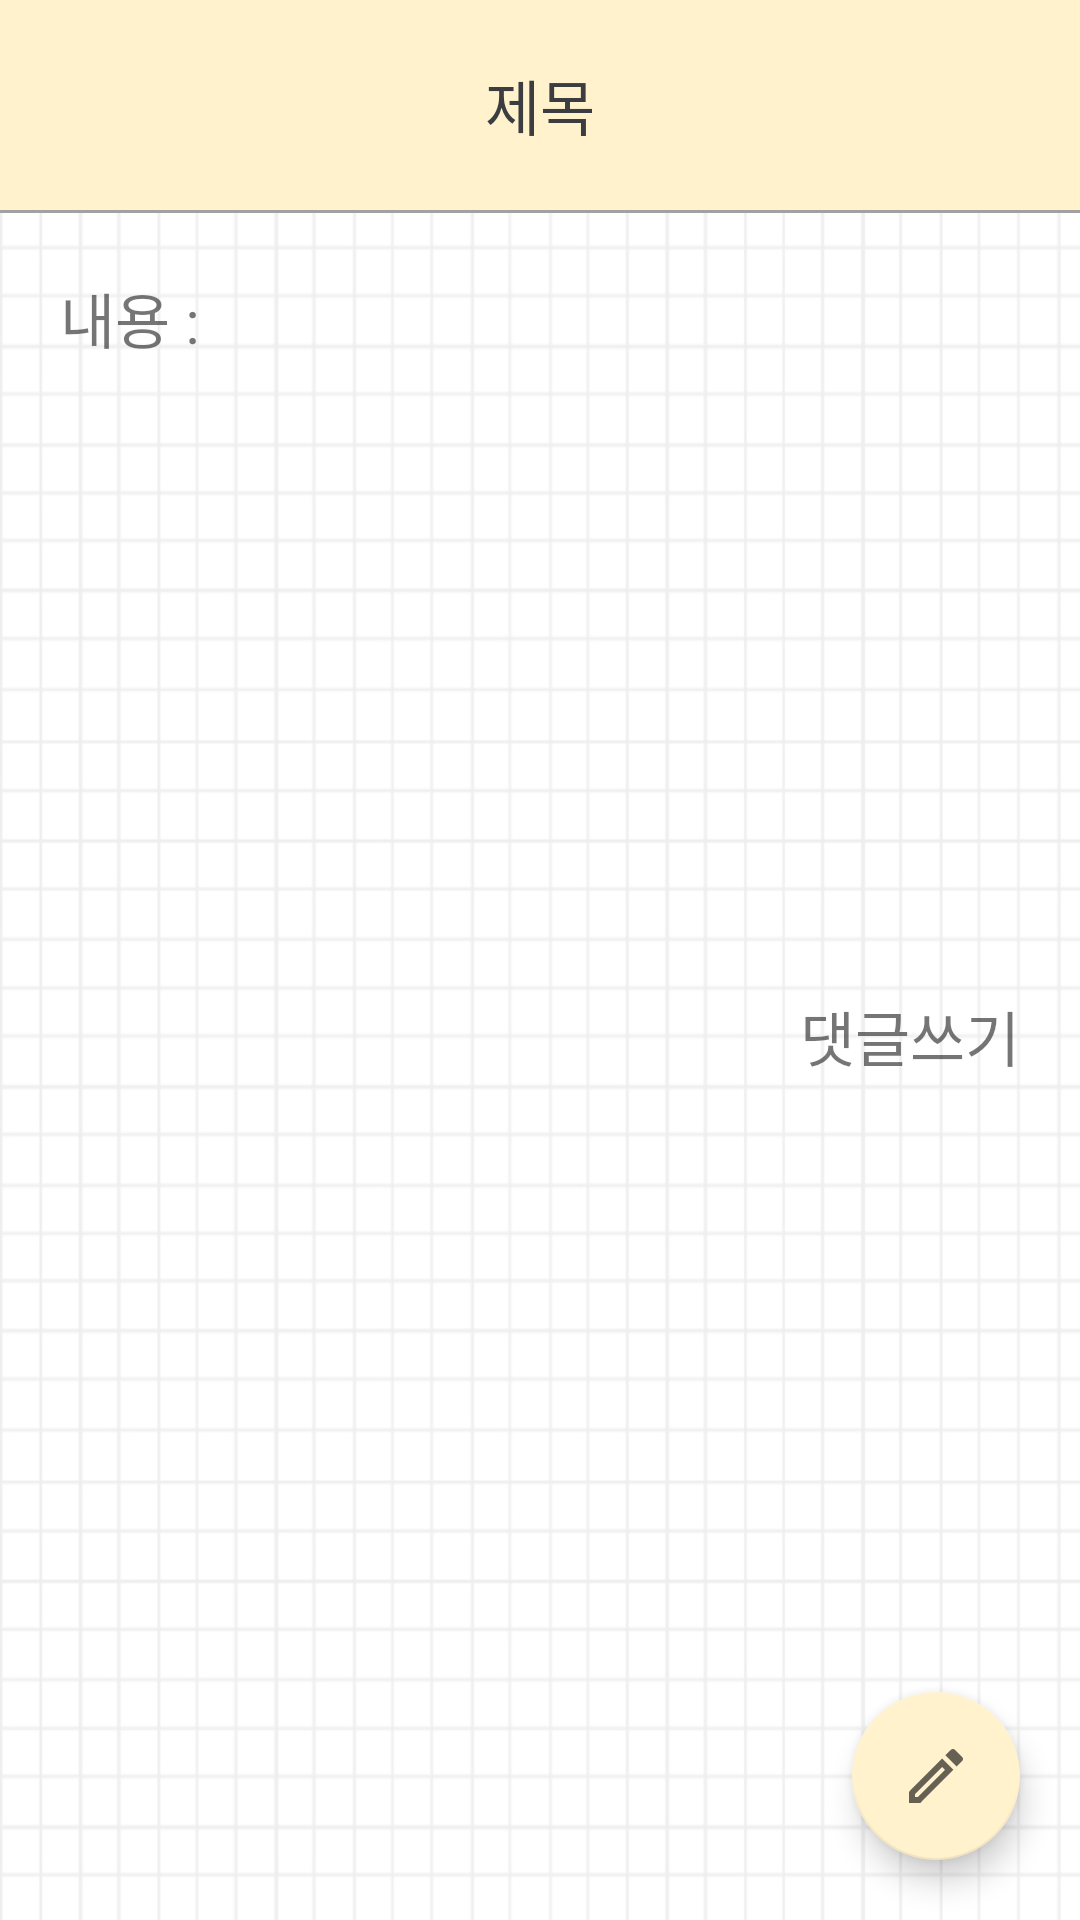

Screen size 1080*1920. Icon name, then its box in pixels as (x1, y1, x2, y2):
mode edit: (852, 1692, 1020, 1860)
